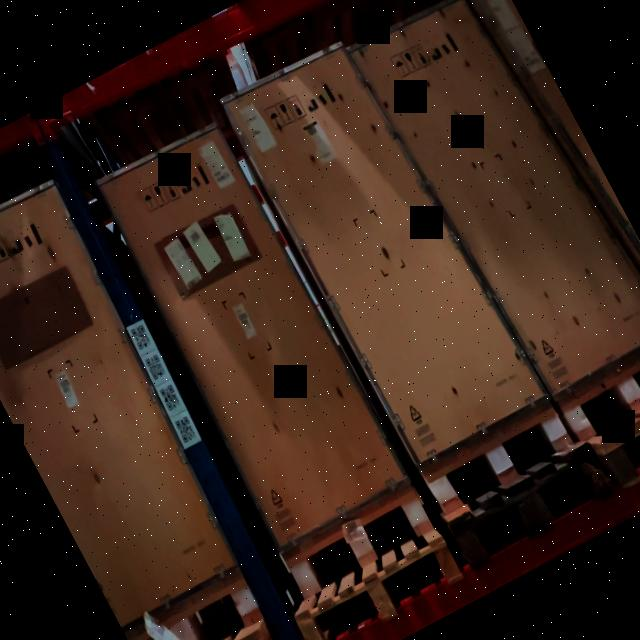box: (222, 41, 538, 473), (95, 120, 407, 547), (365, 0, 640, 398)
